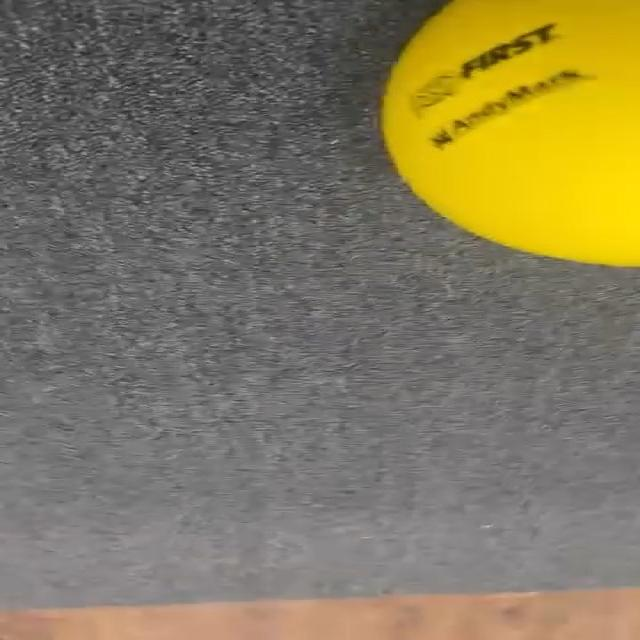Fuels: (382, 0, 638, 264)
